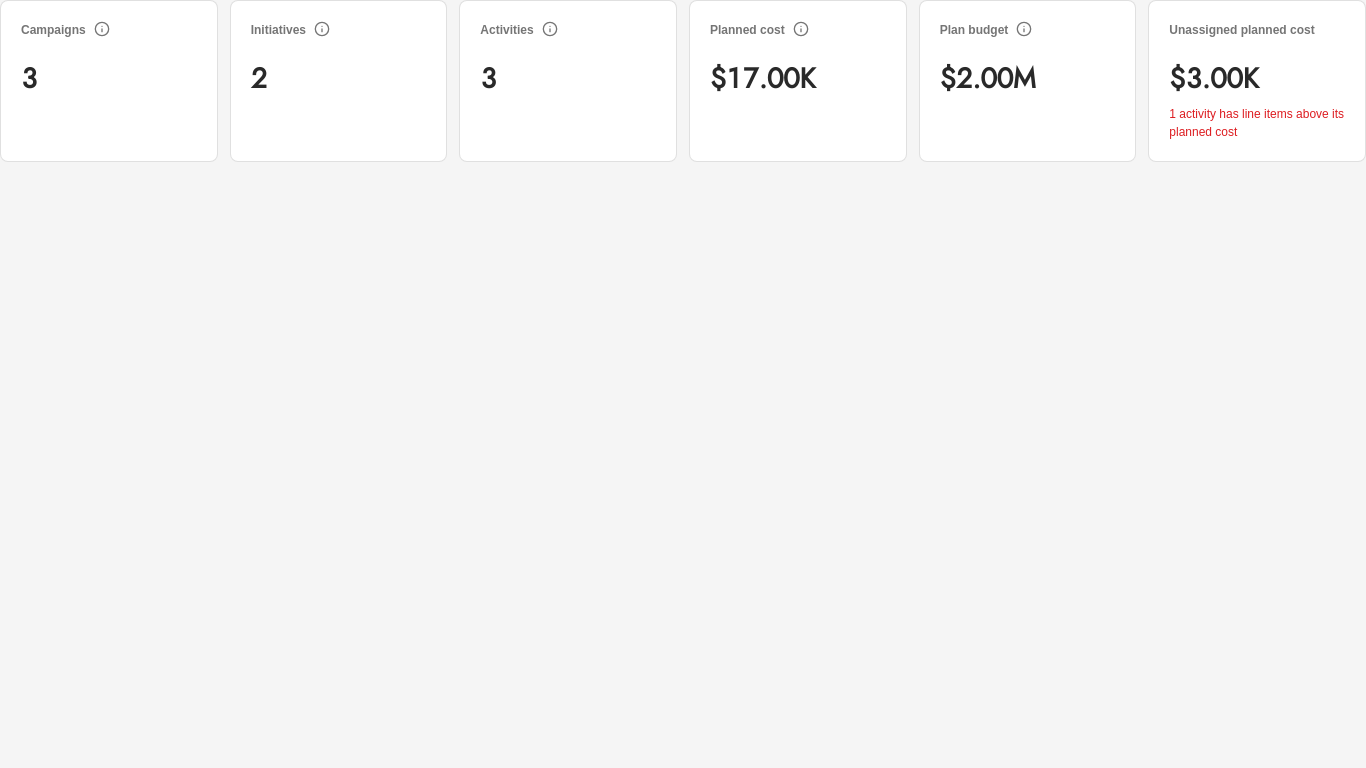
Test: SummaryCards (FR-003) › 016 FR-047: explains each card with its Field help text; an emptied text has no tip
Click the button named "About Planned cost": {"x": 801, "y": 29} x1=789 y1=17 x2=813 y2=41
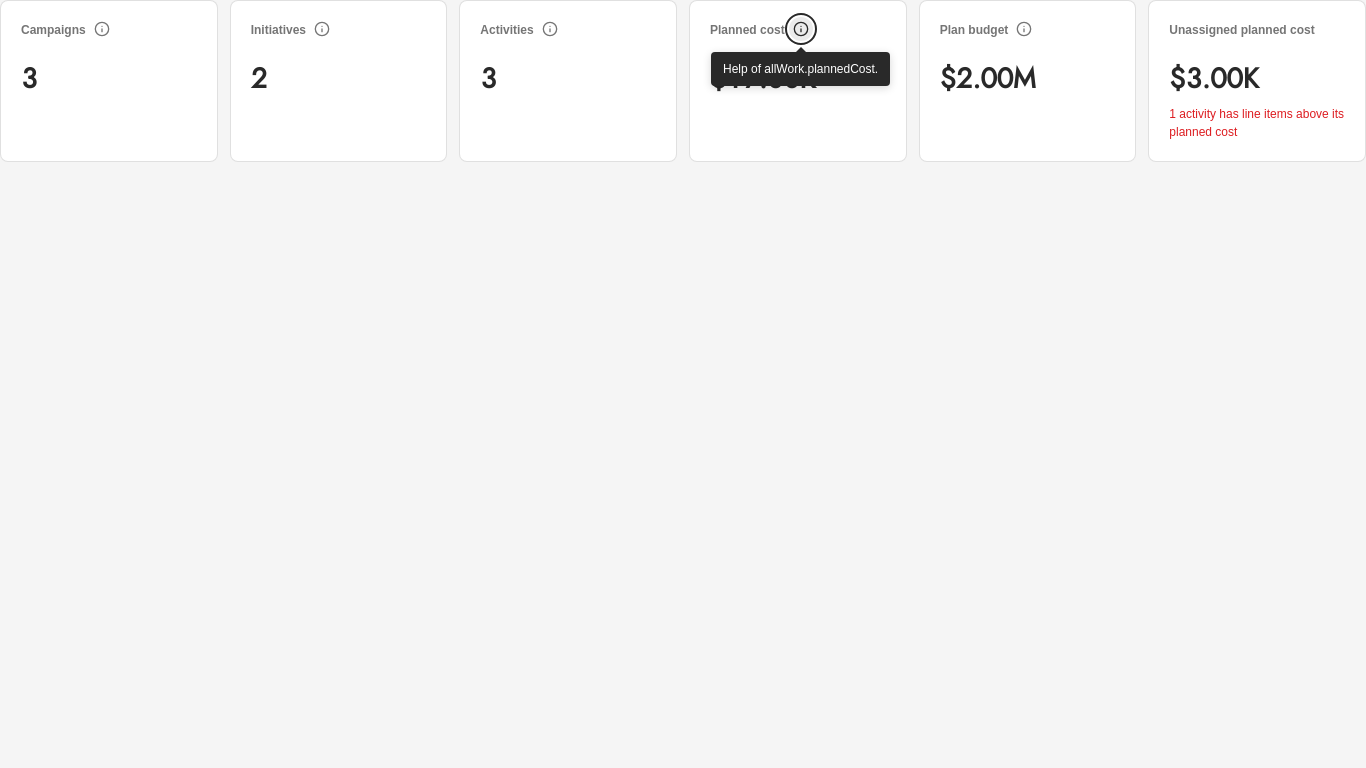
Result: the dialog named "About Planned cost" reads "Help of allWork.plannedCost." at x1=723 y1=62 x2=878 y2=76
